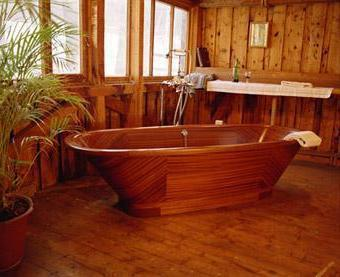Matera: (0, 11, 83, 276)
